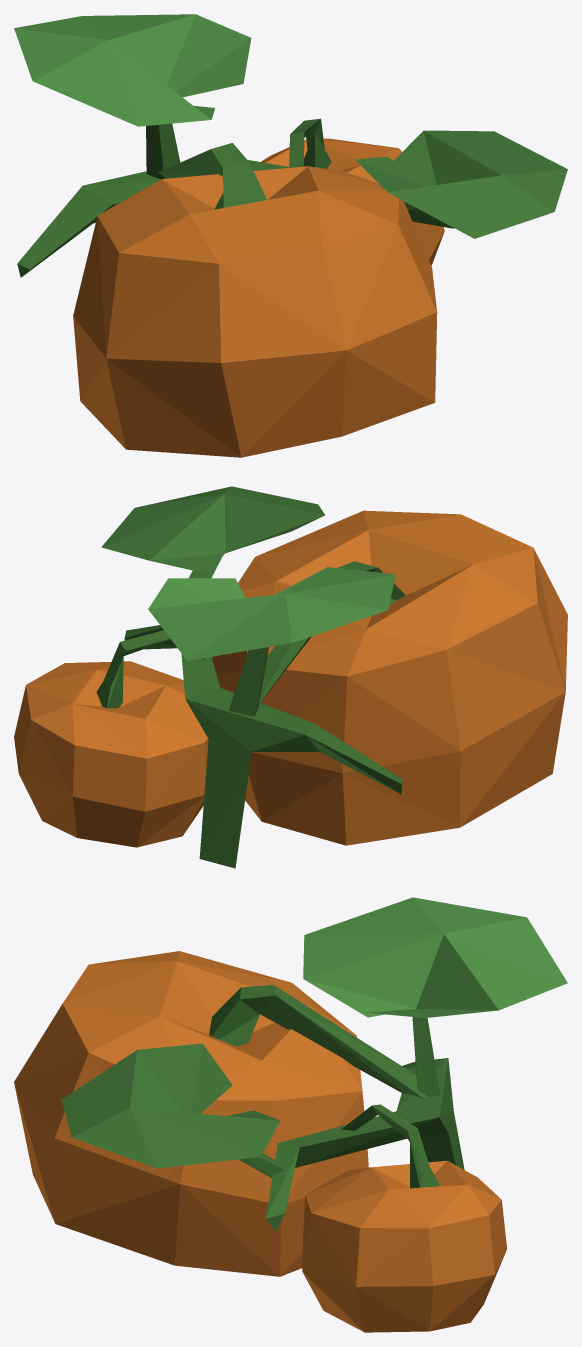
File: plant_M04.FBX
3 views of the same model, one above another, from view 1: azimuth 30°, elevation 25°; view 2: azimuth 150°, elevation 25°; view 3: azimuth 270°, elevation 25° (orthographic). The views are drawn at different scales.
Parts seen in each view (by area): view 1: plant_M04; view 2: plant_M04; view 3: plant_M04.
Boxes of the visible parts, x1,y1,x2,y2 form: plant_M04: (14,14,567,457); plant_M04: (14,486,567,868); plant_M04: (14,897,567,1332).
Size of the model in its own units: 96.16 by 62.76 by 105.
Materials: 1 (1 with a texture image).
